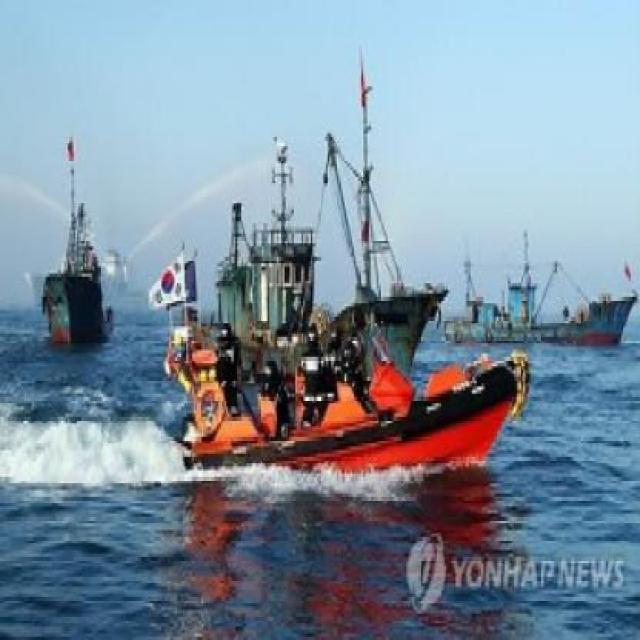fish-b: (146, 154, 547, 505), (443, 221, 639, 364), (39, 140, 137, 368)
